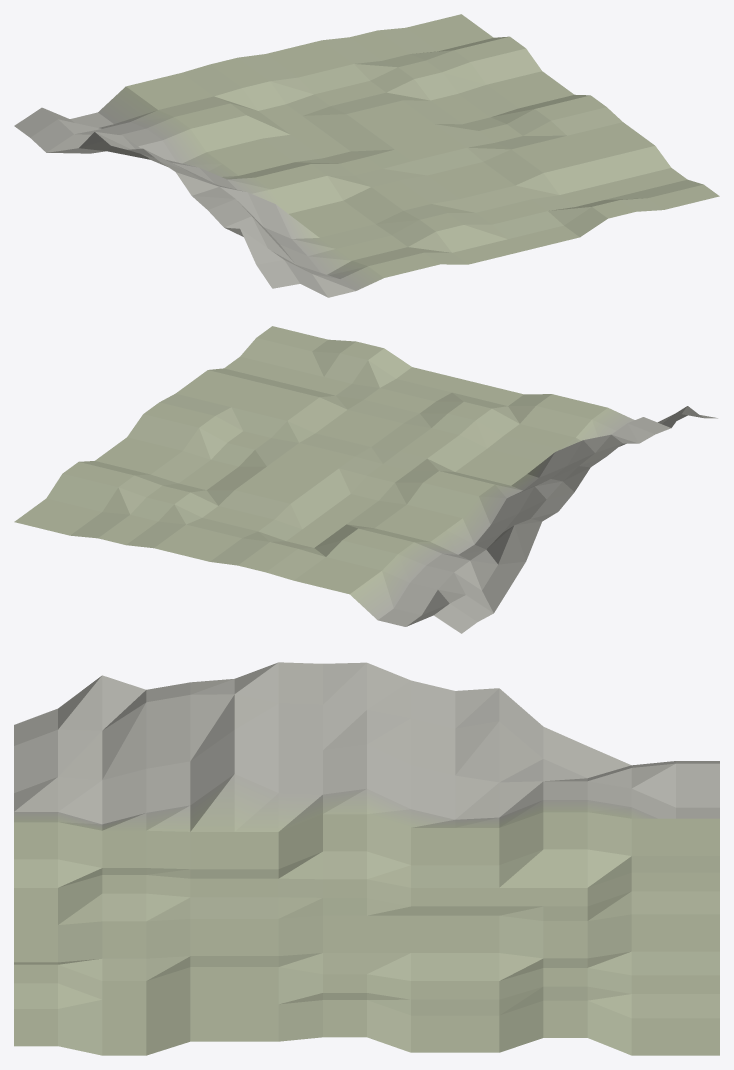
3 renders of one model, top to bottom at view 1: azimuth 30°, elevation 25°; view 2: azimuth 150°, elevation 25°; view 3: azimuth 270°, elevation 25°, orthographic. The views are drawn at different scales.
Bounding box in the file's own units: 32 × 5.4 × 32.
